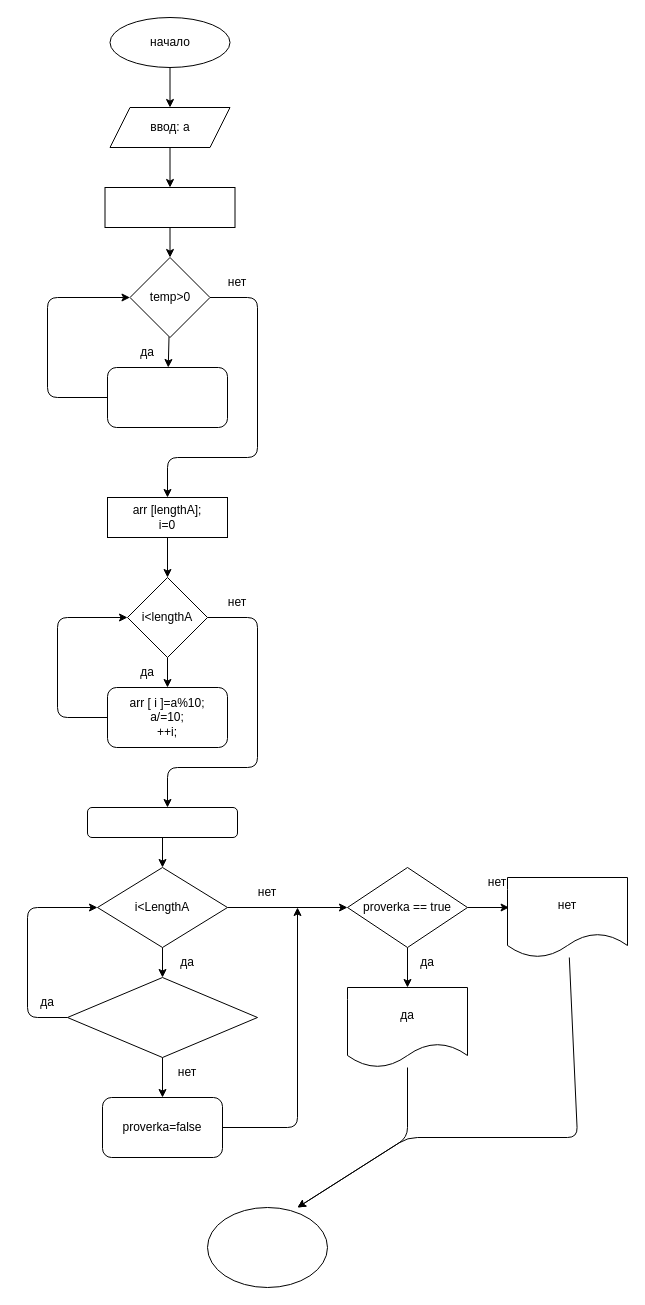
This 645x1305 diagram has some shape labels left out. The shapes that lost their labels are listed below. From the top down, each one's centre as x and y in pixels, then its label:
At (x=169, y=207): "temp=a; lengthA=0;".
At (x=167, y=397): "++lengthA; temp/=10;".
At (x=162, y=822): "i=0; proverka =true;".
At (x=162, y=1017): "arr [ i ] == arr[LengthA]".
At (x=267, y=1247): "конец".
